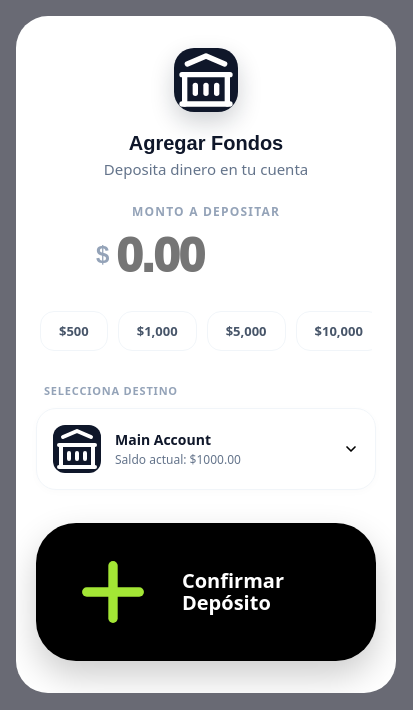
Test: AddFundsModal › sets amount when quick buttons are clicked
Click the button "$1,000".
click(157, 330)  # box [118,310,197,350]
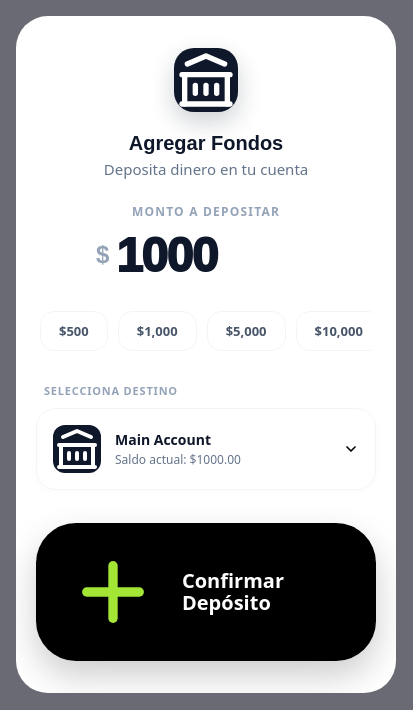
Now the number field with placeholder "0.00" holds "1000", box [116,228,316,282]
